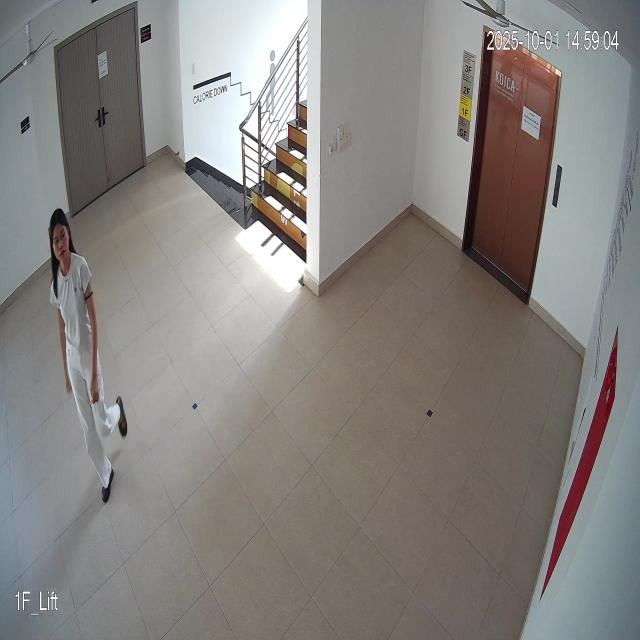face: (47, 208, 73, 269)
